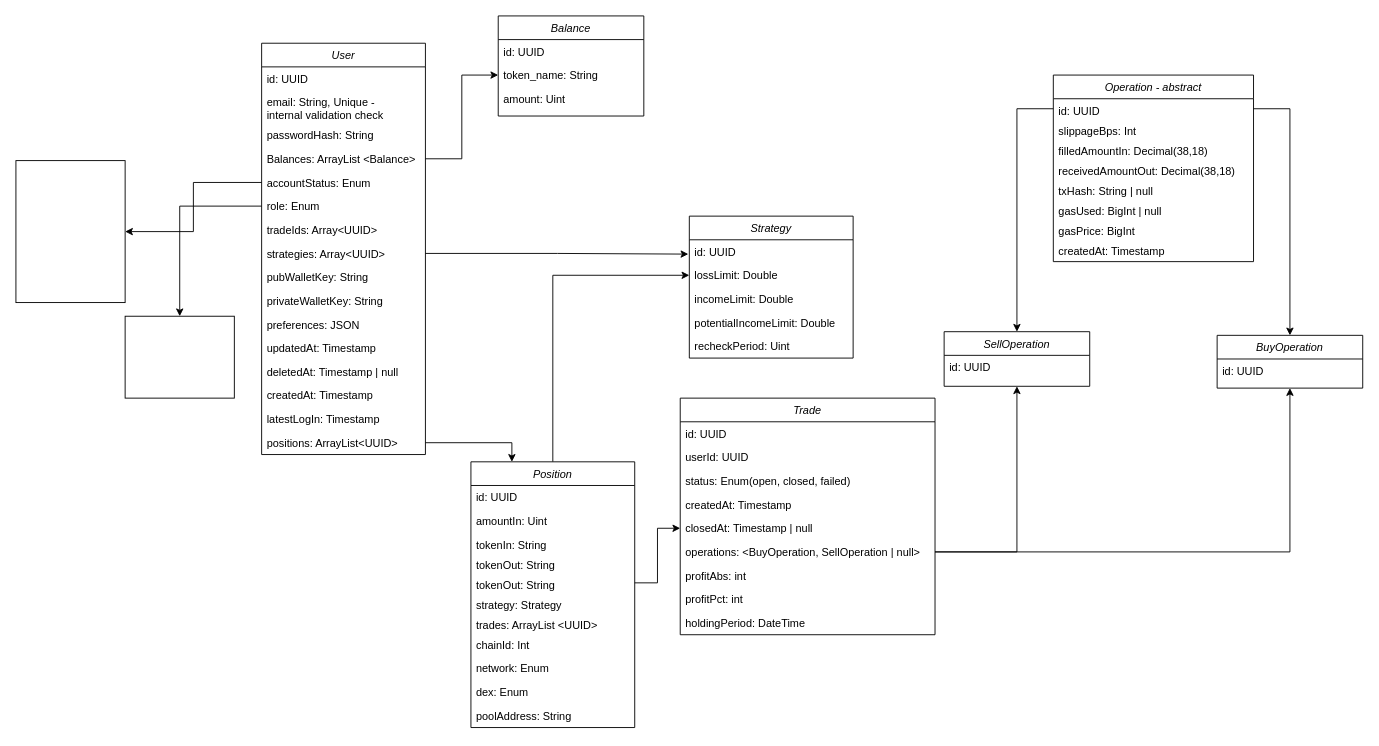
Image size: 1379x746. Some labels were removed from this diagram. Here are the shapes that lost their labels. From the top down, the centre of each, then its label:
At (70,231): "public enum AccountStatus{ ACTIVE, BANNED, DELETED // при необходимости — ещё… }".
At (179,356): "public enum UserRole { USER, ADMIN, ROOT }".
